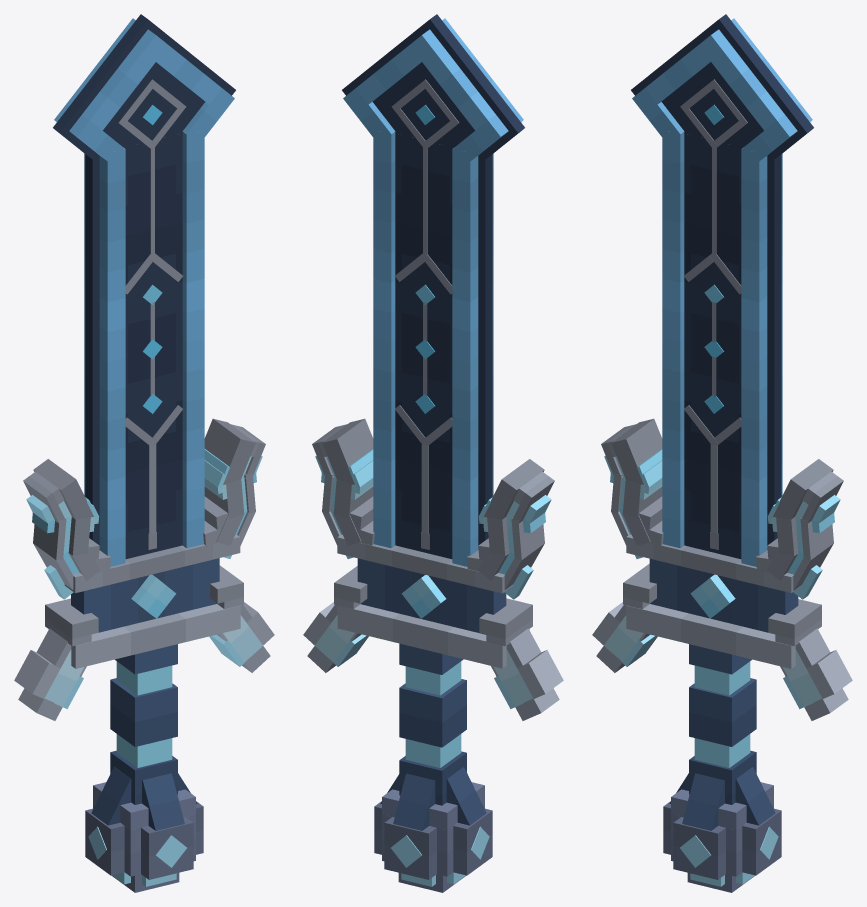
The model's file is frostblade.obj.
The picture shows the model from 3 angles, left to right: view 1: azimuth 30°, elevation 25°; view 2: azimuth 150°, elevation 25°; view 3: azimuth 330°, elevation 25°; orthographic projection.
Parts seen in each view (by area): view 1: cube; view 2: cube; view 3: cube.
Boxes of the visible parts, x1,y1,x2,y2 form: cube: (14,14,274,892); cube: (303,14,563,892); cube: (592,14,852,892).
Size of the model in its own units: 0.5461 by 1.86 by 0.2125.
Materials: 4 (4 with a texture image).
